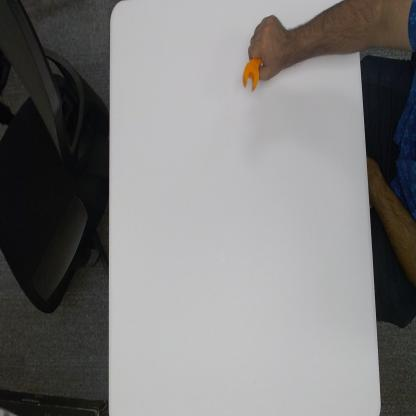Arm: (290, 0, 416, 66)
Hand: (247, 12, 291, 82)
Screwdriver: (242, 55, 262, 94)
